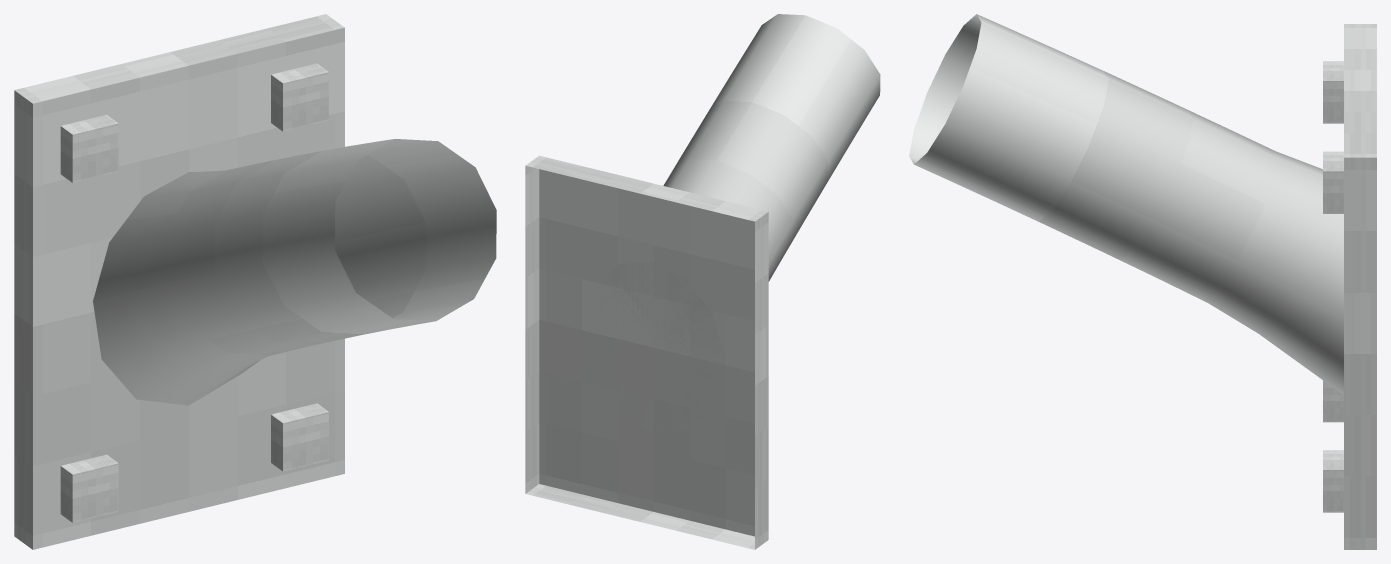
File: luminairearm_caltrans12ftdouble_c7_wall.obj
3 views of the same model, side by side, from view 1: azimuth 30°, elevation 25°; view 2: azimuth 150°, elevation 25°; view 3: azimuth 270°, elevation 25° (orthographic). The views are drawn at different scales.
Parts seen in each view (by area): view 1: luminairearm_caltrans12ftdouble_c7_wall; view 2: luminairearm_caltrans12ftdouble_c7_wall; view 3: luminairearm_caltrans12ftdouble_c7_wall.
Part boxes in pixels (bbox=[...]): luminairearm_caltrans12ftdouble_c7_wall: bbox=[14, 14, 496, 549]; luminairearm_caltrans12ftdouble_c7_wall: bbox=[525, 14, 880, 549]; luminairearm_caltrans12ftdouble_c7_wall: bbox=[909, 14, 1376, 549].
Size of the model in its own units: 0.4222 by 0.6777 by 0.6239.
